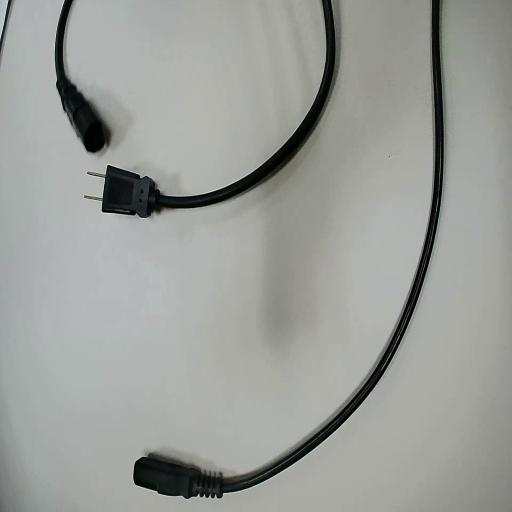wire: (134, 0, 443, 497), (103, 0, 335, 215), (56, 0, 109, 151)
